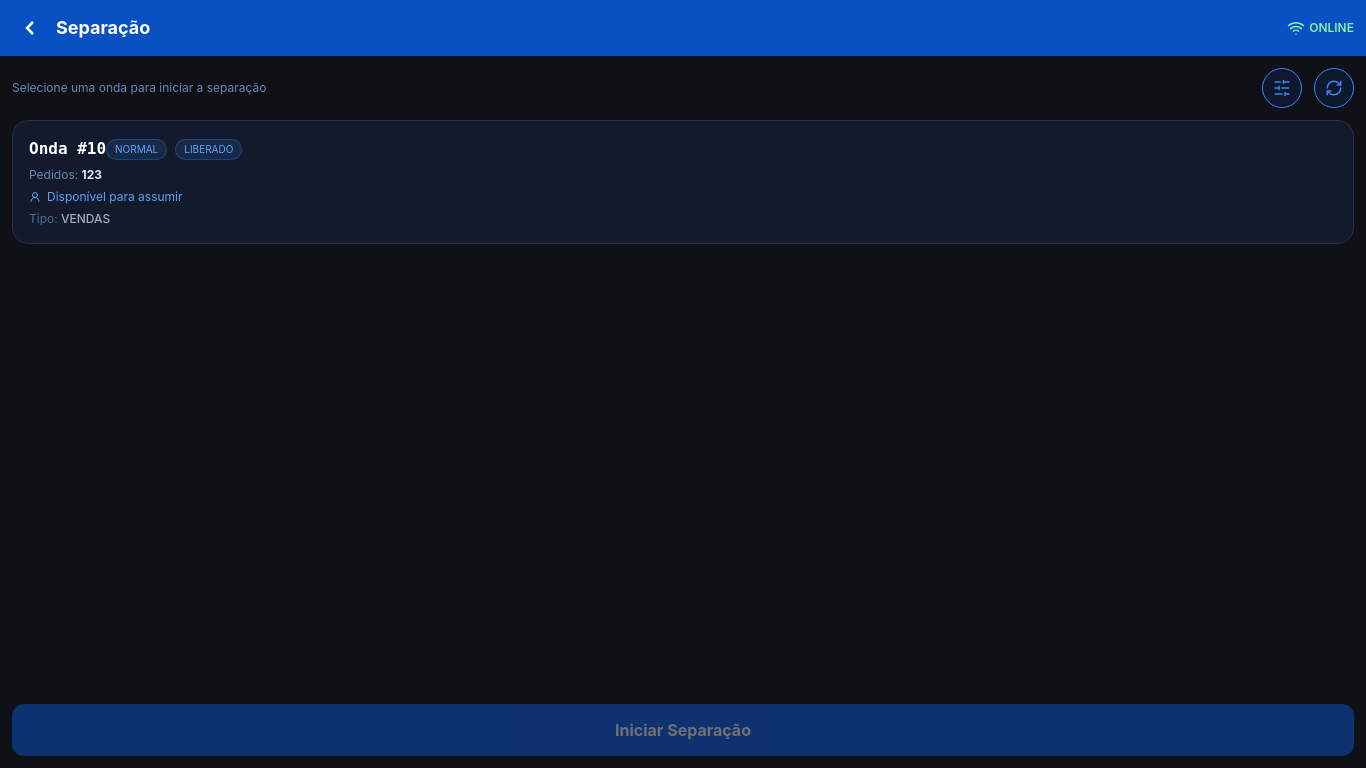
coletor — convocação híbrida na separação › convocada pelo gestor: não oferece sair
Click the button that starts with "Onda #": (683, 182) [12,120,1354,244]
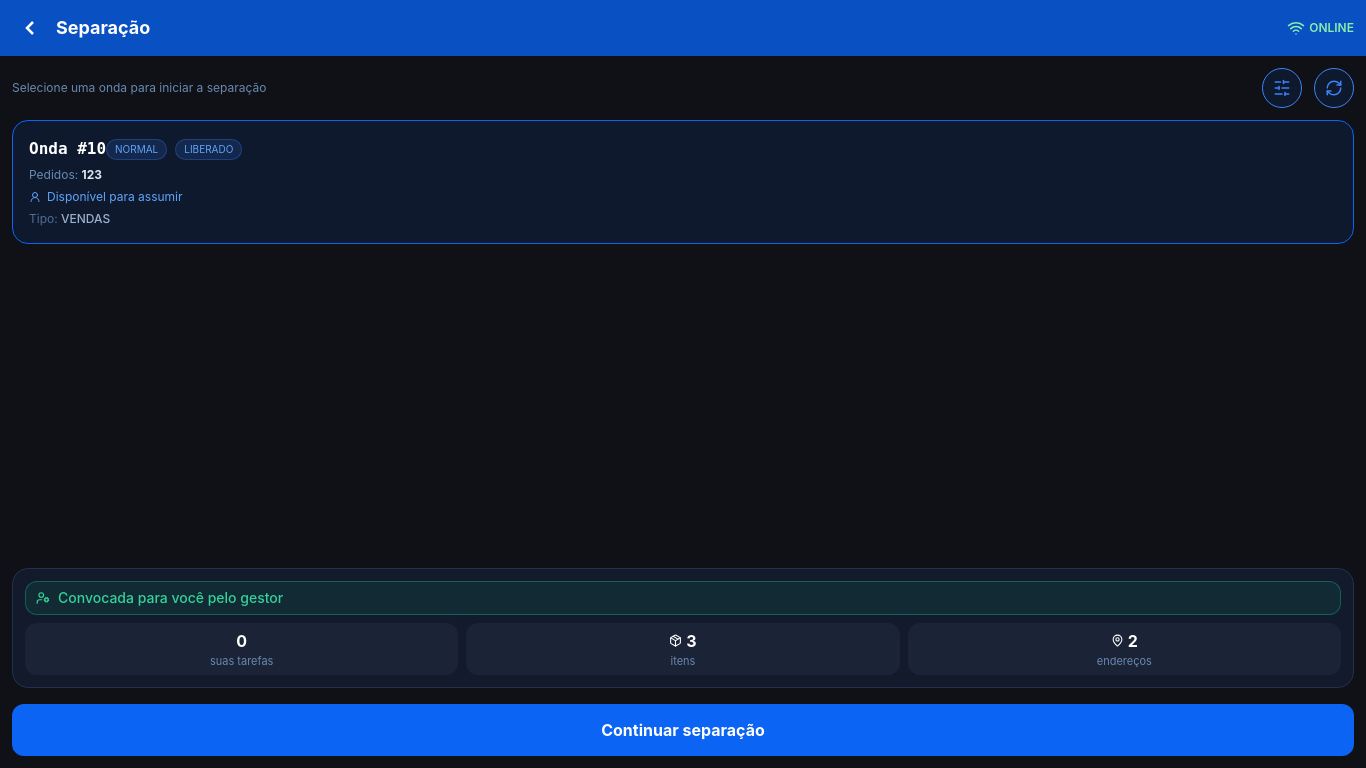
Check: the text "Convocada para você pelo gestor" is shown, box [58,588,283,608]
